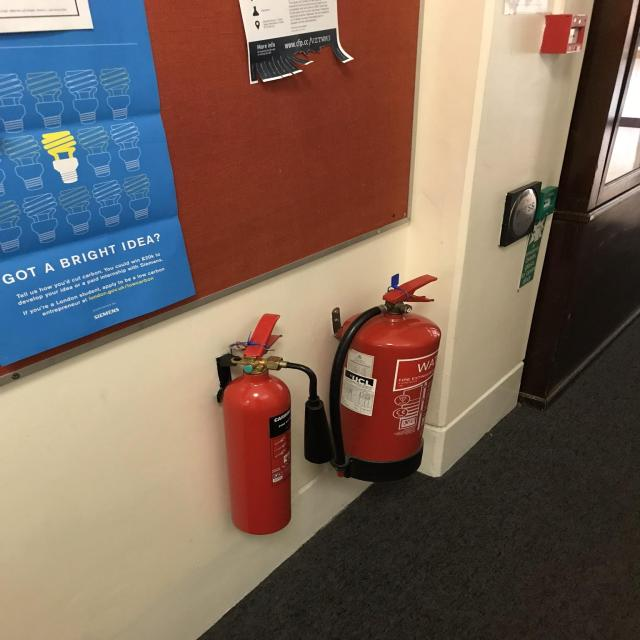fire_extinguisher: (210, 310, 339, 538), (323, 272, 447, 484)
